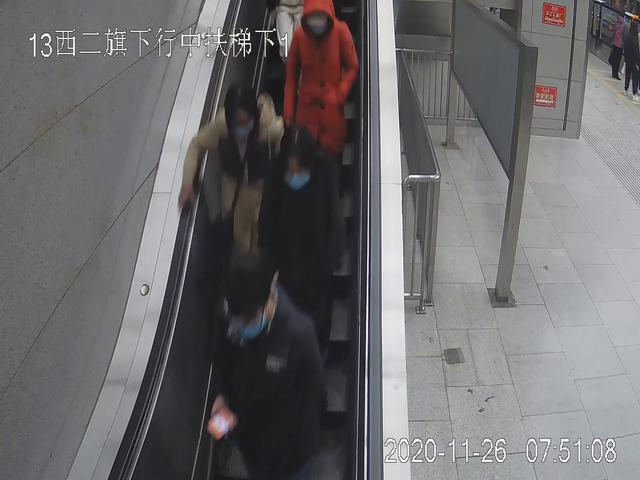person: (180, 84, 284, 359), (218, 256, 325, 477), (257, 126, 338, 395), (284, 1, 357, 206), (610, 9, 626, 79)
